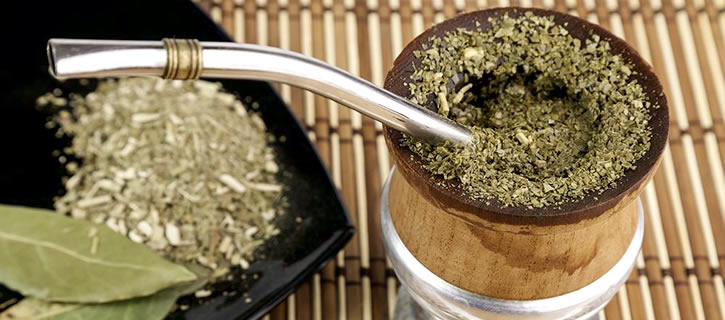guampa: (27, 6, 668, 301)
